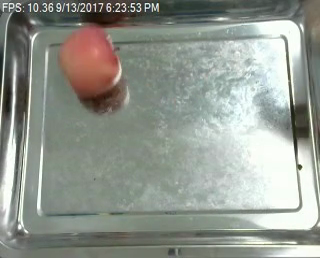Apple: (55, 21, 123, 104)
